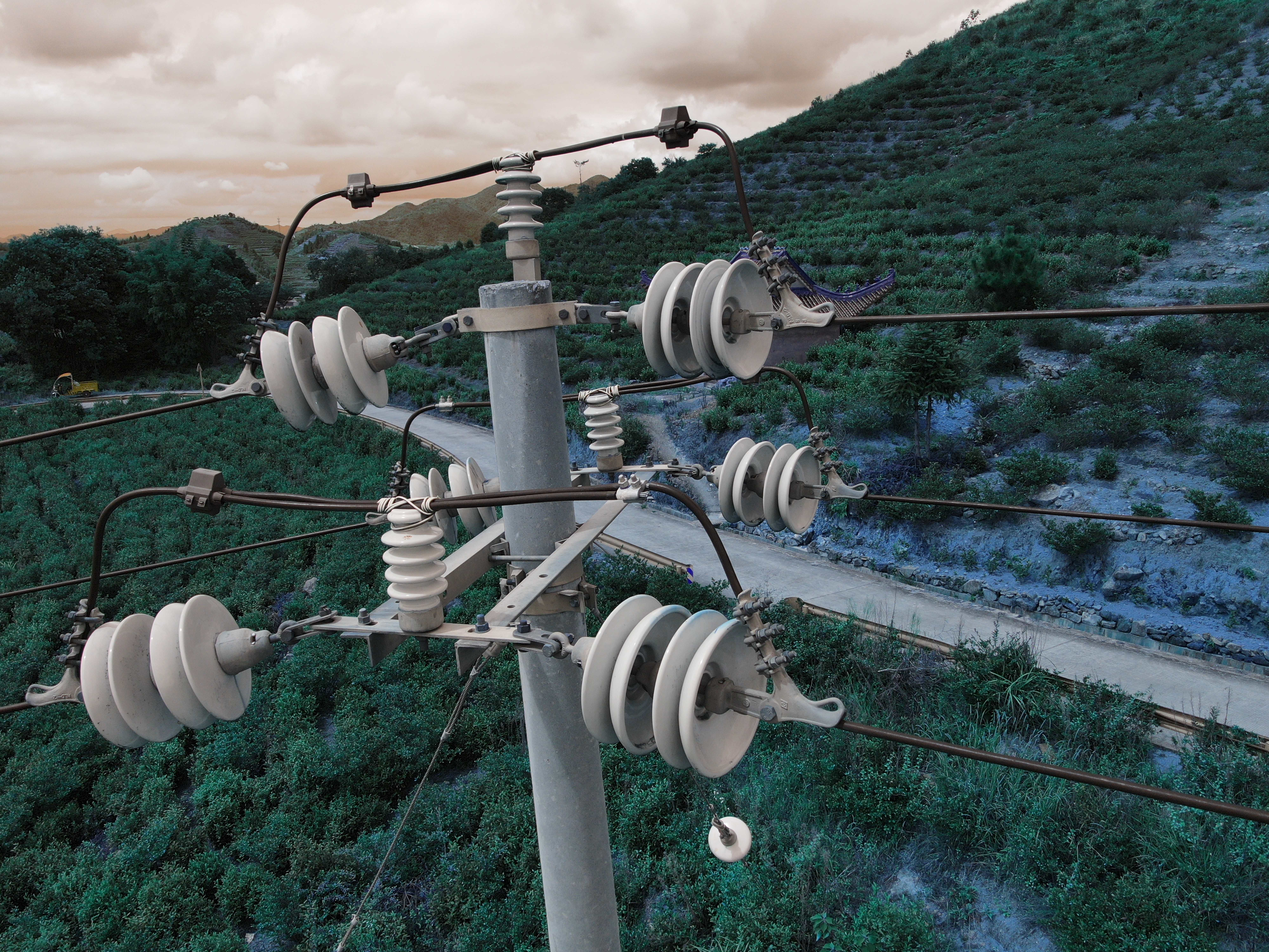severe_soiling_no_discharge_whole: (408, 456, 500, 545), (616, 470, 648, 507), (437, 394, 456, 416)
